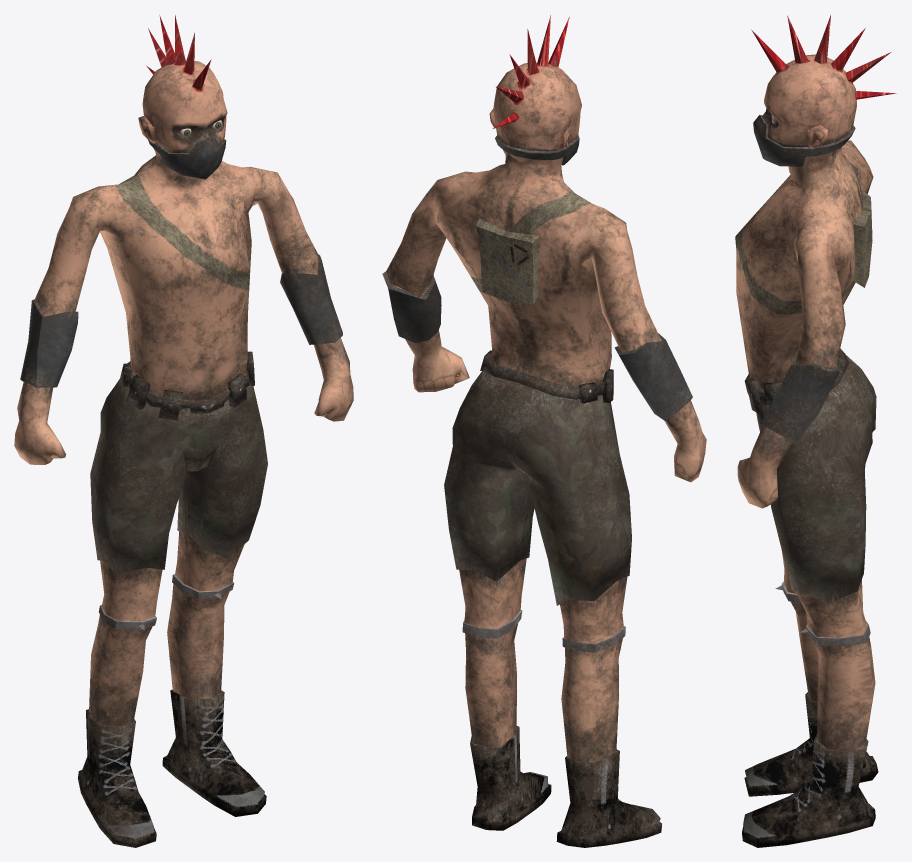
File: Anim_cogerobjeto_npc2.0041.obj
The picture shows the model from 3 angles, left to right: view 1: azimuth 30°, elevation 25°; view 2: azimuth 150°, elevation 25°; view 3: azimuth 270°, elevation 25°; orthographic projection. The views are drawn at different scales.
Visible parts, largest first — view 1: polySurface1; view 2: polySurface1; view 3: polySurface1.
Part boxes in pixels (<box>): polySurface1: <box>14,15,353,847</box>; polySurface1: <box>382,15,706,847</box>; polySurface1: <box>735,15,896,847</box>.
Size of the model in its own units: 4.25 by 10.37 by 1.88.
2 materials, 2 textured.
